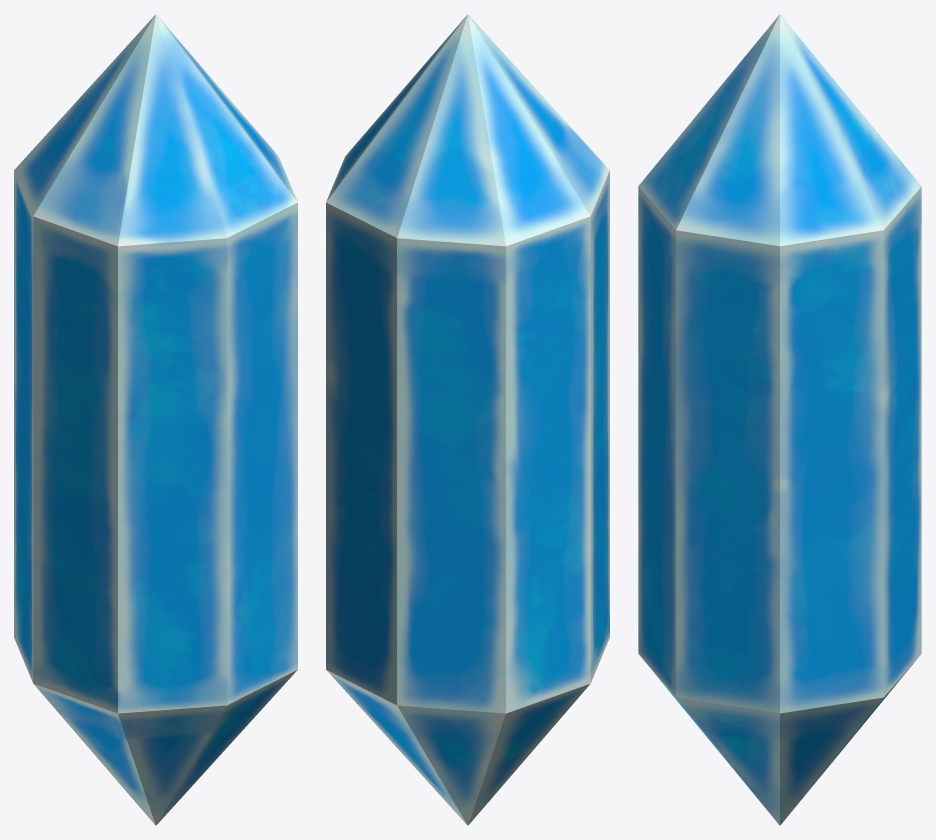
The model's file is crystal_water.glb.
3 views of the same model, side by side, from view 1: azimuth 30°, elevation 25°; view 2: azimuth 150°, elevation 25°; view 3: azimuth 270°, elevation 25° (orthographic).
Parts seen in each view (by area): view 1: Plane; view 2: Plane; view 3: Plane.
Boxes of the visible parts, x1,y1,x2,y2 form: Plane: (14,14,297,825); Plane: (326,14,609,825); Plane: (638,14,921,825).
Size of the model in its own units: 0.275 by 0.8689 by 0.275.
1 material, 1 textured.
